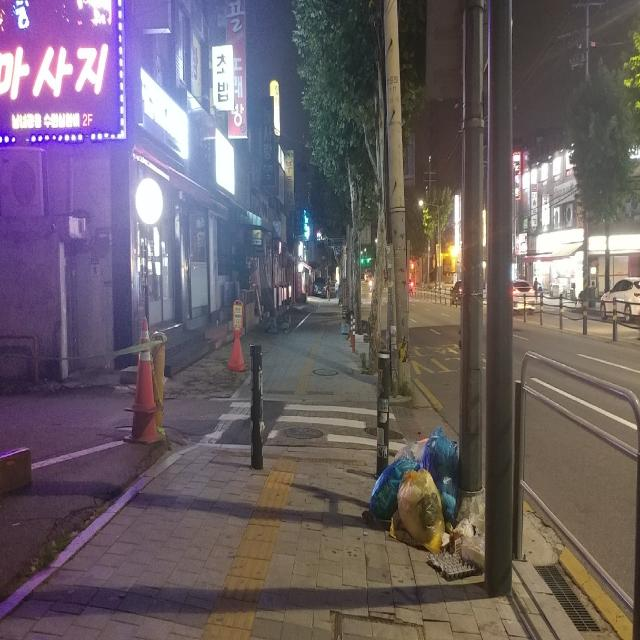횡단보도: (204, 401, 408, 453)
